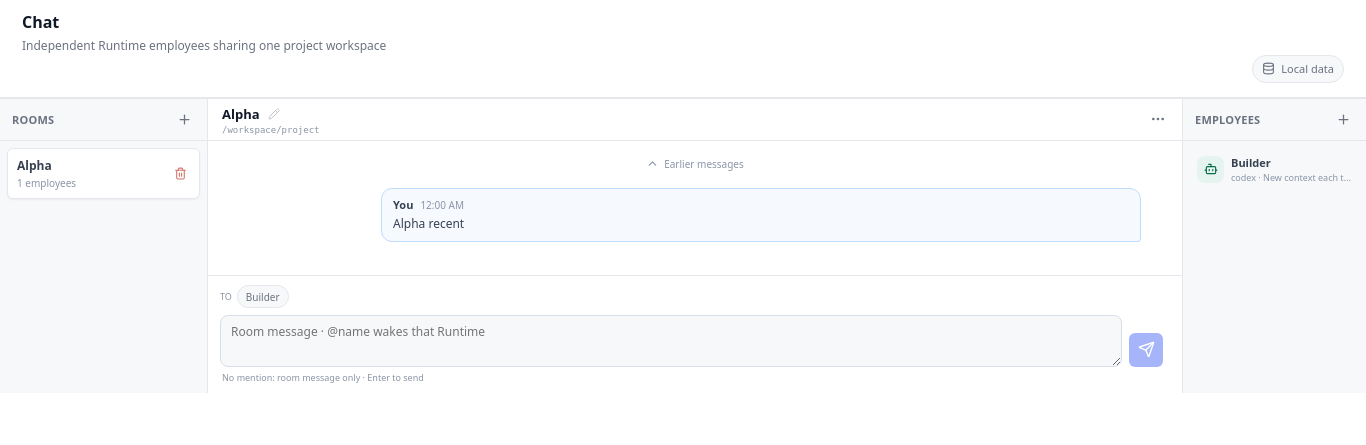
Test: TeamChatPage rooms › loads earlier messages in the current room and advances the cursor
Click the button "Earlier messages" at (695, 164), box [639,155,751,173]
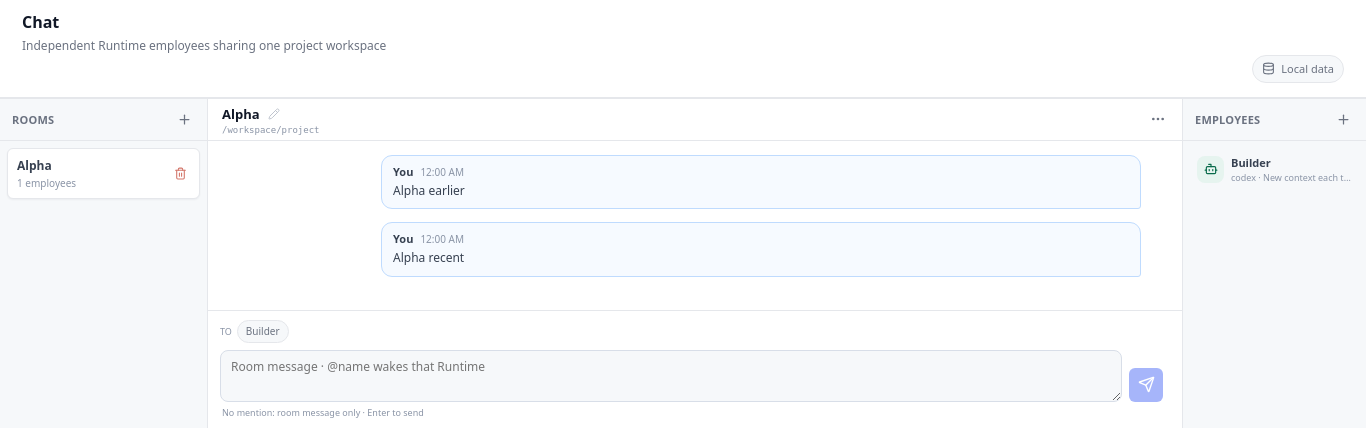
Expected: the text "Alpha recent" is shown, [393,249,464,266]
Expected: the text "Alpha earlier" is shown, [393,182,465,199]
